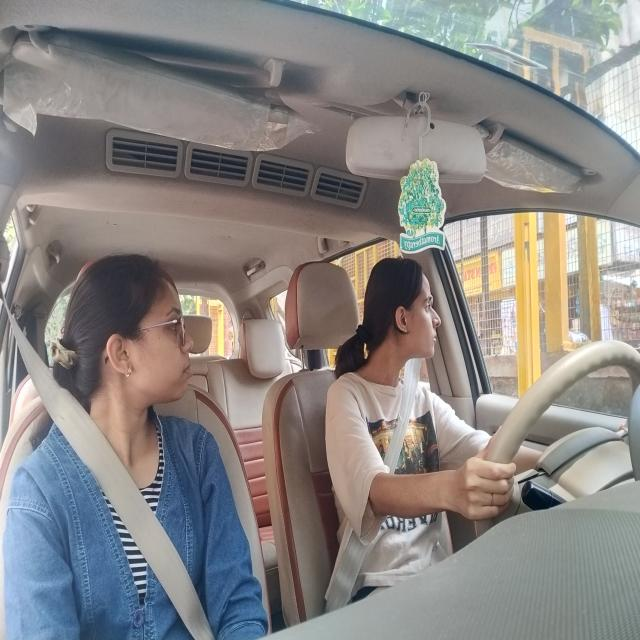LeftRight: (346, 246, 460, 399)
person: (47, 244, 208, 453)
